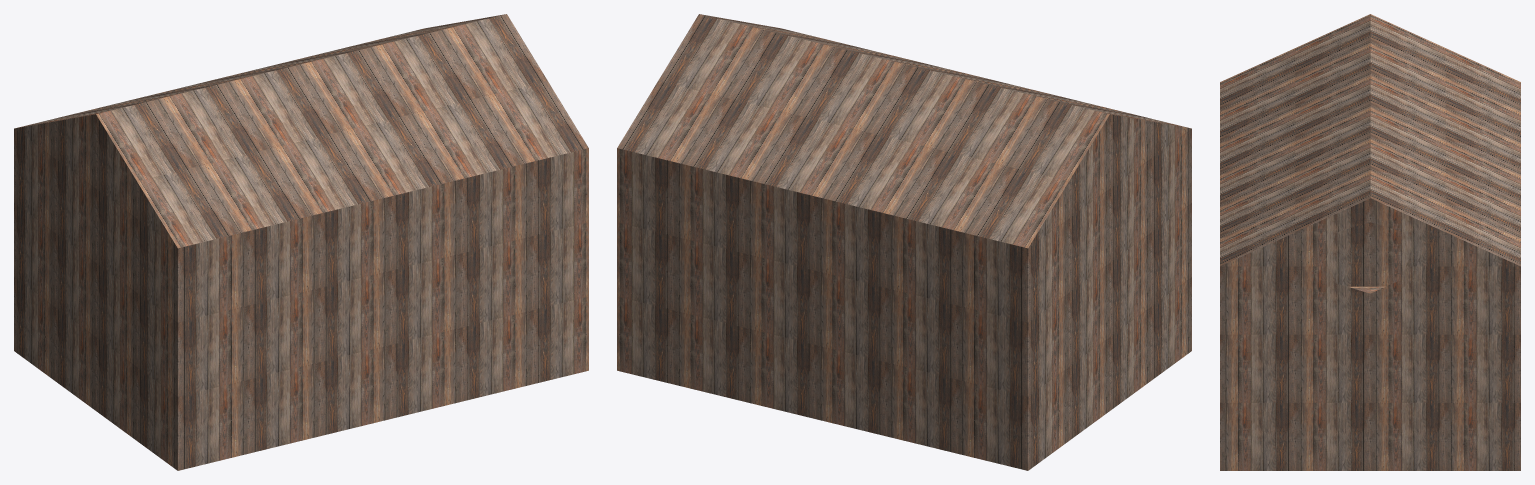
Rendered from House.obj.
3 views of the same model, side by side, from view 1: azimuth 30°, elevation 25°; view 2: azimuth 150°, elevation 25°; view 3: azimuth 270°, elevation 25° (orthographic). The views are drawn at different scales.
Parts seen in each view (by area): view 1: Default_Prototype; view 2: Default_Prototype; view 3: Default_Prototype.
Boxes of the visible parts, x1,y1,x2,y2 form: Default_Prototype: (14,14,588,470); Default_Prototype: (617,14,1191,470); Default_Prototype: (1220,14,1520,470).
Bounding box in the file's own units: 5.8 × 4 × 4.
Materials: 1 (1 with a texture image).
